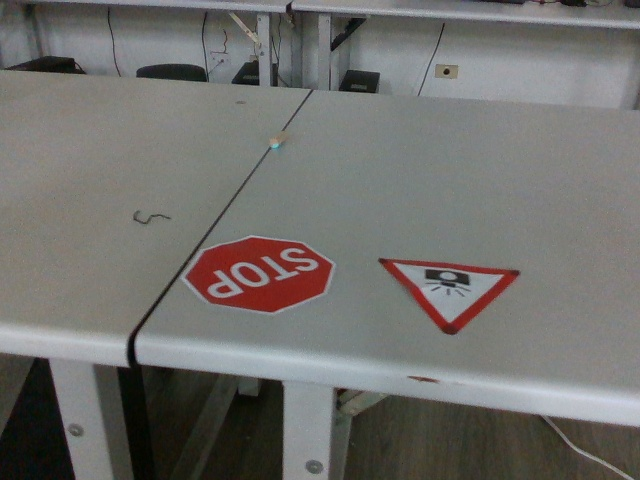camera: (379, 252, 522, 338)
stop: (180, 234, 338, 311)
